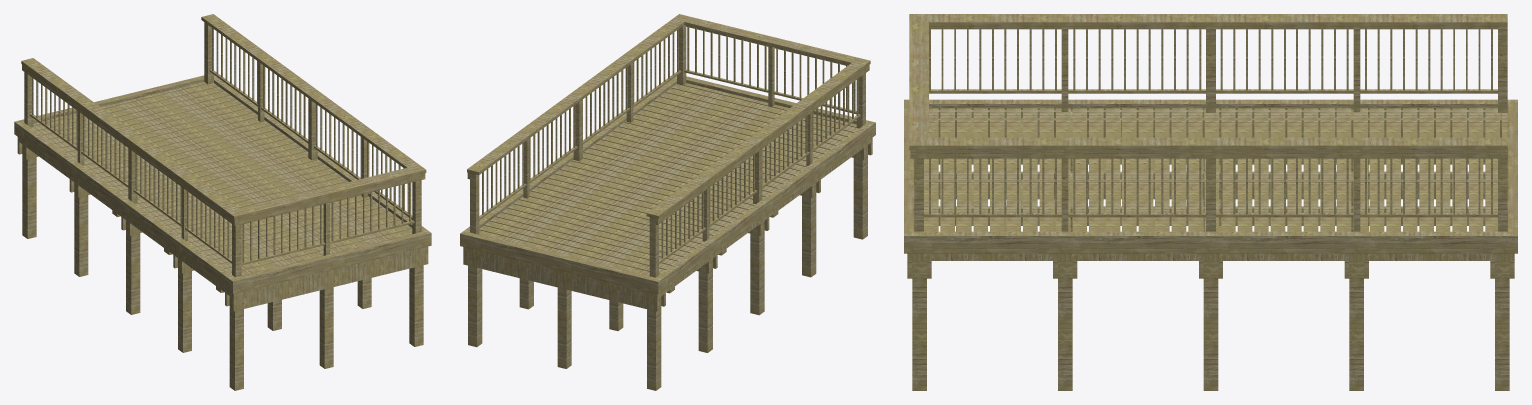
Rendered from WoodDeck.glb.
3 renders of one model, left to right at view 1: azimuth 30°, elevation 25°; view 2: azimuth 150°, elevation 25°; view 3: azimuth 270°, elevation 25°, orthographic. The views are drawn at different scales.
Visible parts, largest first — view 1: wooden deck; view 2: wooden deck; view 3: wooden deck.
Part boxes in pixels (x1,y1,x2,y2): wooden deck: (14, 14, 431, 390); wooden deck: (460, 14, 875, 390); wooden deck: (904, 14, 1517, 390).
Bounding box in the file's own units: 3321 × 2800 × 6321.
1 material, 1 textured.
